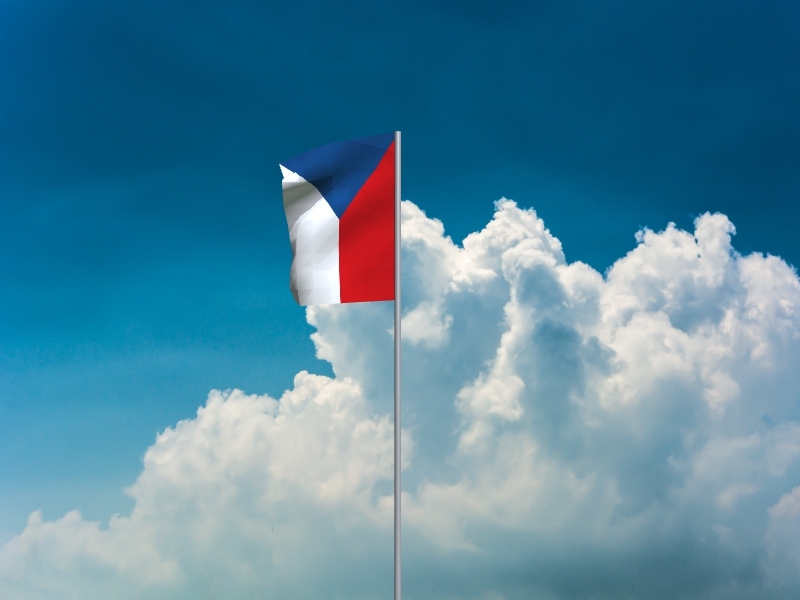cz: (278, 133, 395, 308)
